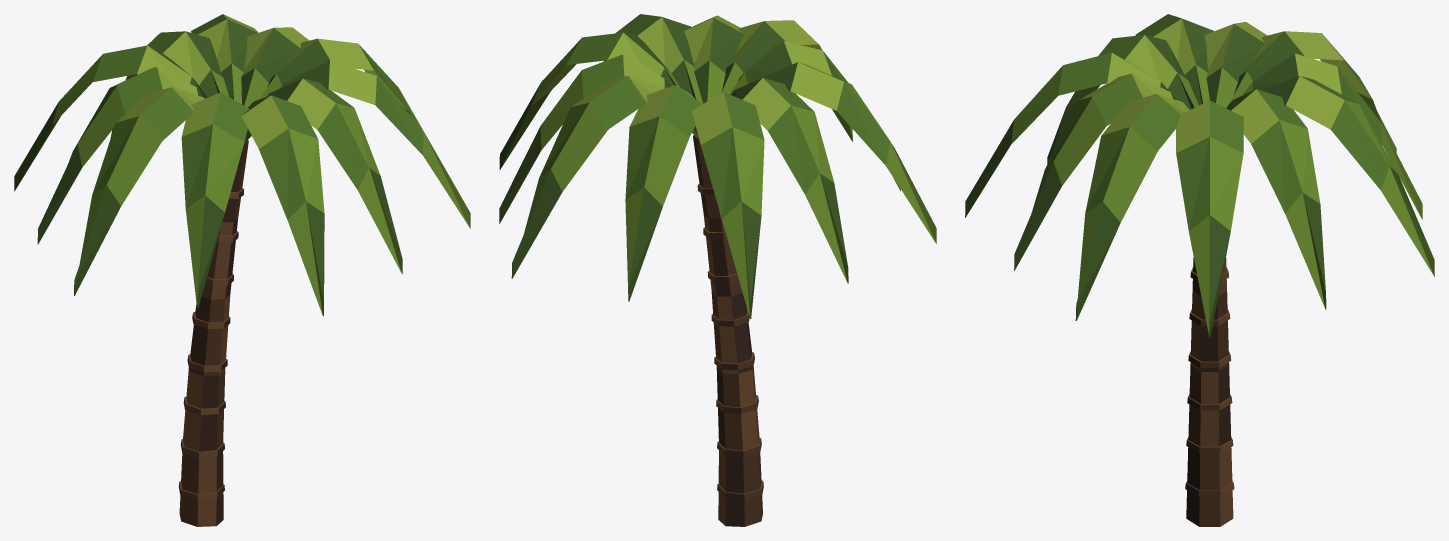
File: tree_palm_oasis.obj
The picture shows the model from 3 angles, left to right: view 1: azimuth 30°, elevation 25°; view 2: azimuth 150°, elevation 25°; view 3: azimuth 270°, elevation 25°; orthographic projection. The views are drawn at different scales.
Parts seen in each view (by area): view 1: tree_palm_oasis; view 2: tree_palm_oasis; view 3: tree_palm_oasis.
Part boxes in pixels (x1,y1,x2,y2): tree_palm_oasis: (14,14,470,526); tree_palm_oasis: (499,14,936,526); tree_palm_oasis: (965,14,1434,526).
Bounding box in the file's own units: 469 × 510 × 455.
Materials: 1 (1 with a texture image).
